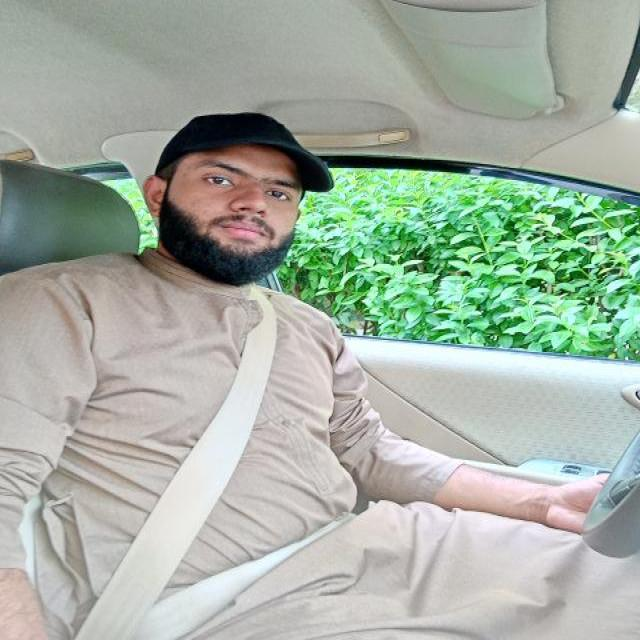seatbelt: (84, 280, 421, 640)
